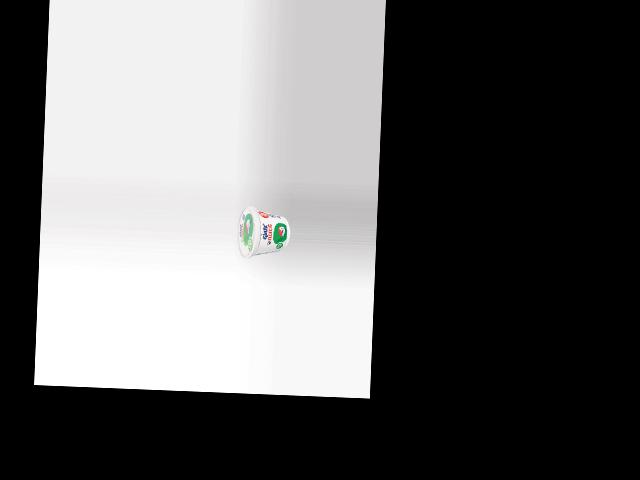cotage: (236, 204, 291, 261)
